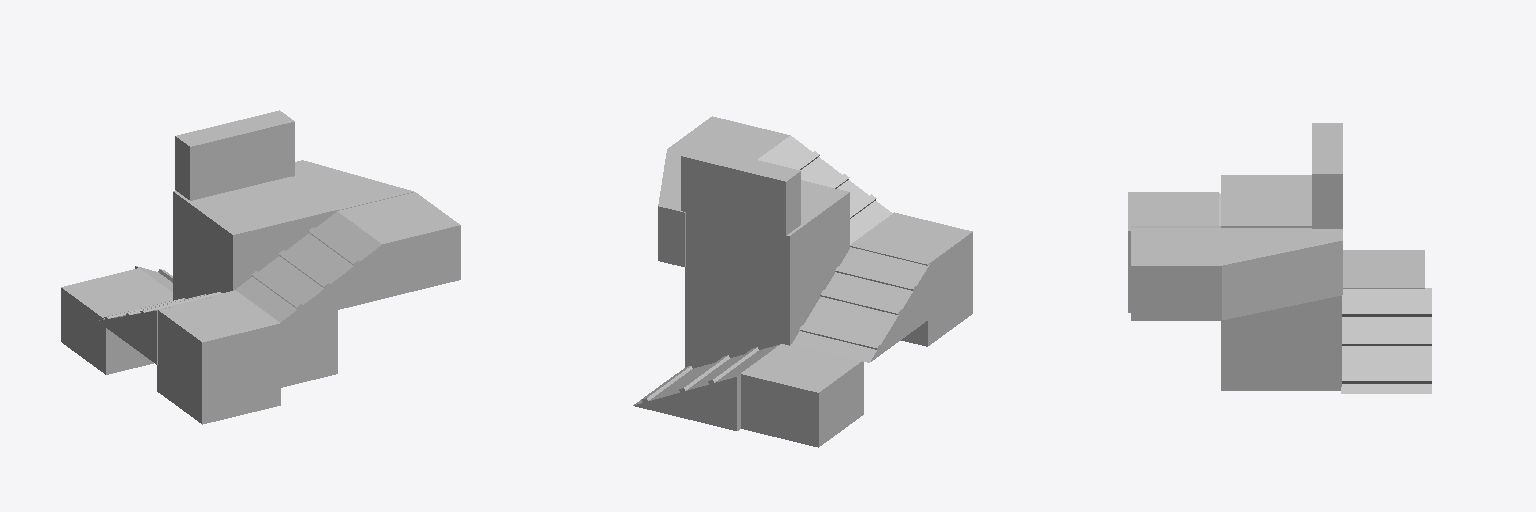
The model's file is rampa esquina zona verde - copia.obj.
The picture shows the model from 3 angles: view 1: azimuth 30°, elevation 25°; view 2: azimuth 150°, elevation 25°; view 3: azimuth 270°, elevation 25°; orthographic projection.
Visible parts, largest first — view 1: pCube10, pCube5, pCube6, pCube11, pCube7, pCube3, pCube9, pCube4; view 2: pCube10, pCube4, pCube3, pCube11, pCube5, pCube2, pCube6, pCube7, pCube9; view 3: pCube10, pCube9, pCube2, pCube7, pCube5, pCube11, pCube3.
Boxes of the visible parts, <box> form: pCube10: <box>173,176,337,387</box>; pCube5: <box>157,290,280,424</box>; pCube6: <box>236,212,381,323</box>; pCube11: <box>175,110,294,200</box>; pCube7: <box>337,192,460,298</box>; pCube3: <box>61,268,172,374</box>; pCube9: <box>294,160,413,210</box>; pCube4: <box>98,292,221,364</box>; pCube10: <box>685,180,849,368</box>; pCube4: <box>792,245,929,362</box>; pCube3: <box>741,344,863,447</box>; pCube11: <box>681,145,800,235</box>; pCube5: <box>850,212,972,346</box>; pCube2: <box>633,345,778,430</box>; pCube6: <box>758,135,892,244</box>; pCube7: <box>668,116,789,159</box>; pCube9: <box>658,149,685,266</box>; pCube10: <box>1221,175,1341,390</box>; pCube9: <box>1222,228,1342,319</box>; pCube2: <box>1341,288,1431,393</box>; pCube7: <box>1131,228,1221,320</box>; pCube5: <box>1128,192,1218,312</box>; pCube11: <box>1312,123,1342,228</box>; pCube3: <box>1343,250,1424,288</box>.
Bounding box in the file's own units: 996 × 797 × 1003.